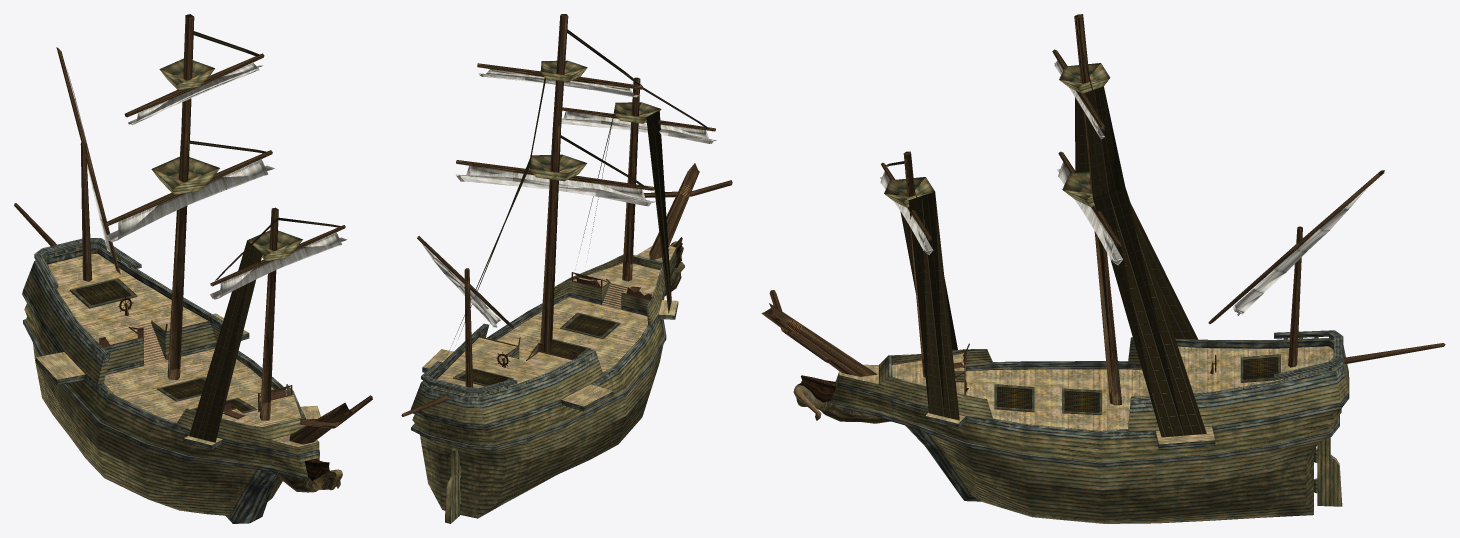
The model's file is pir_m_shp_wrk_carrack.fbx.
3 renders of one model, left to right at view 1: azimuth 30°, elevation 25°; view 2: azimuth 150°, elevation 25°; view 3: azimuth 270°, elevation 25°, orthographic. The views are drawn at different scales.
Parts seen in each view (by area): view 1: deck, hull_mid, hull_bottom, ladder_0_right.001, stripe_upper, hull_upper_aft, stripe_lower, mast_0, sail_0, hull_upper_fore, mast_0.001, sail_0.001 (+20 smaller); view 2: deck, hull_mid, hull_bottom, hull_upper_aft, stripe_upper, stripe_lower, sail_0, mast_0, hull_upper_fore, ladder_0_right.001, sail_0.001, trim (+23 smaller); view 3: hull_mid, hull_bottom, deck, ladder_0_left, ladder_0_left.001, stripe_lower, stripe_upper, hull_upper_aft, hull_upper_fore, trim, ladder_1_left, mast_0 (+16 smaller).
Part boxes in pixels (bbox=[...]): deck: bbox=[47, 253, 318, 446]; hull_mid: bbox=[23, 296, 319, 483]; hull_bottom: bbox=[35, 360, 282, 515]; ladder_0_right.001: bbox=[189, 240, 262, 442]; stripe_upper: bbox=[30, 245, 222, 366]; hull_upper_aft: bbox=[23, 272, 219, 384]; stripe_lower: bbox=[22, 289, 319, 458]; mast_0: bbox=[168, 130, 190, 370]; sail_0: bbox=[105, 159, 274, 242]; hull_upper_fore: bbox=[176, 385, 319, 454]; mast_0.001: bbox=[260, 207, 278, 403]; sail_0.001: bbox=[210, 232, 347, 299]; deck: bbox=[437, 246, 676, 394]; hull_mid: bbox=[412, 258, 676, 466]; hull_bottom: bbox=[421, 368, 657, 518]; hull_upper_aft: bbox=[411, 334, 603, 424]; stripe_upper: bbox=[417, 323, 598, 407]; stripe_lower: bbox=[410, 255, 676, 429]; sail_0: bbox=[455, 165, 654, 206]; mast_0: bbox=[540, 126, 561, 353]; hull_upper_fore: bbox=[554, 248, 676, 325]; ladder_0_right.001: bbox=[646, 110, 671, 313]; sail_0.001: bbox=[561, 111, 716, 143]; trim: bbox=[411, 268, 676, 450]; hull_mid: bbox=[830, 377, 1341, 490]; hull_bottom: bbox=[941, 450, 1313, 523]; deck: bbox=[839, 346, 1333, 430]; ladder_0_left: bbox=[1093, 187, 1206, 437]; ladder_0_left.001: bbox=[908, 192, 959, 420]; stripe_lower: bbox=[837, 361, 1349, 439]; stripe_upper: bbox=[1130, 337, 1345, 412]; hull_upper_aft: bbox=[1128, 347, 1348, 431]; hull_upper_fore: bbox=[839, 349, 992, 420]; trim: bbox=[826, 401, 1339, 466]; ladder_1_left: bbox=[1085, 86, 1125, 197]; mast_0: bbox=[1086, 140, 1120, 396].
Bounding box in the file's own units: 6323 × 14563 × 18457.
Materials: 2 (2 with a texture image).
